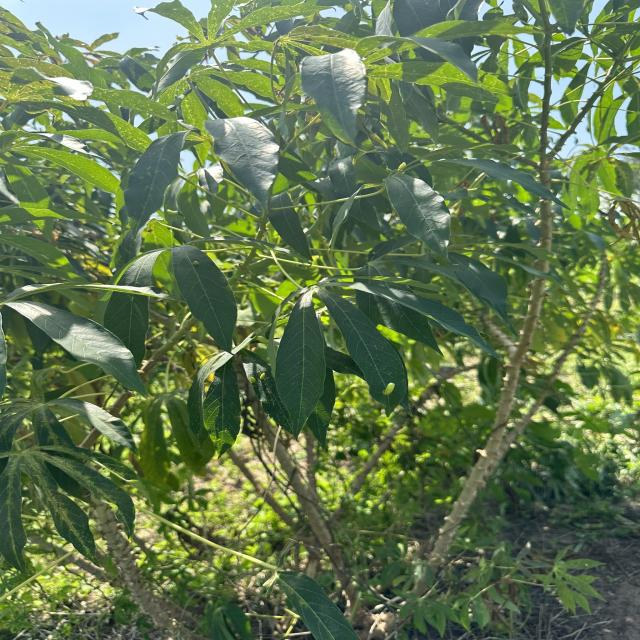Maleza: (400, 421, 629, 512)
Mosca: (245, 364, 276, 394), (369, 372, 399, 400), (187, 250, 209, 273), (200, 370, 222, 386)
